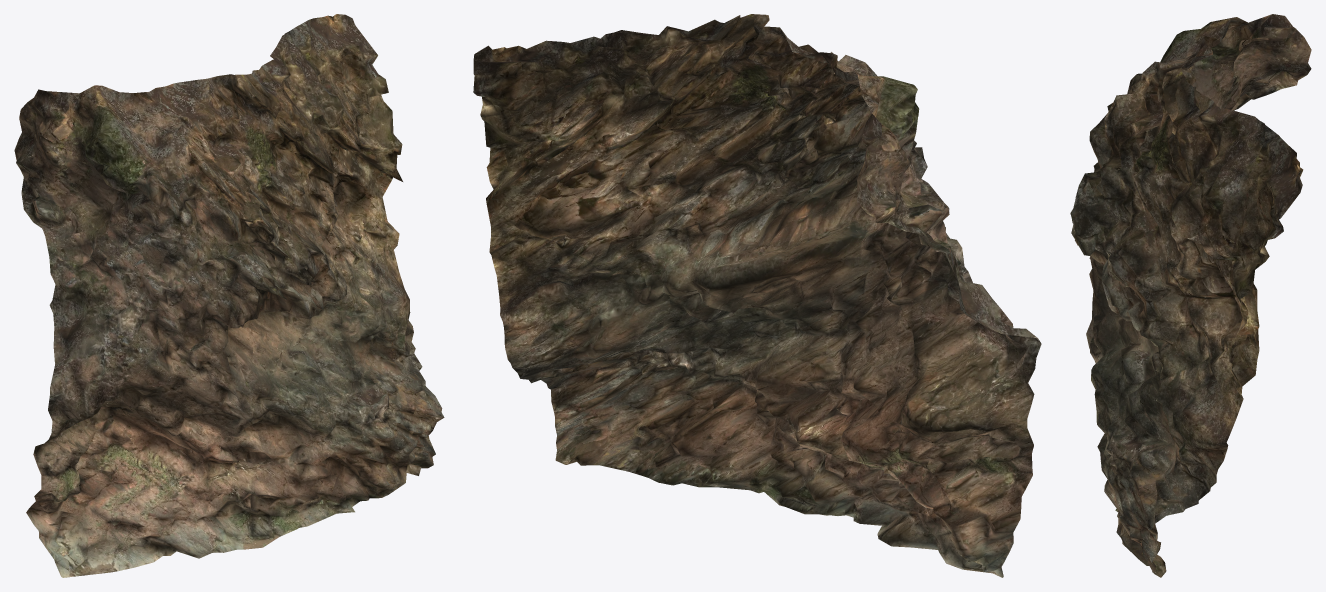
Rendered from acantilado_01.glb.
The picture shows the model from 3 angles, left to right: view 1: azimuth 30°, elevation 25°; view 2: azimuth 150°, elevation 25°; view 3: azimuth 270°, elevation 25°; orthographic projection. The views are drawn at different scales.
Parts seen in each view (by area): view 1: mountainside; view 2: mountainside; view 3: mountainside.
Boxes of the visible parts, <box> form: mountainside: <box>14,14,444,577</box>; mountainside: <box>473,14,1041,577</box>; mountainside: <box>1070,14,1311,577</box>.
Bounding box in the file's own units: 6 × 6.19 × 3.09.
1 material, 1 textured.
